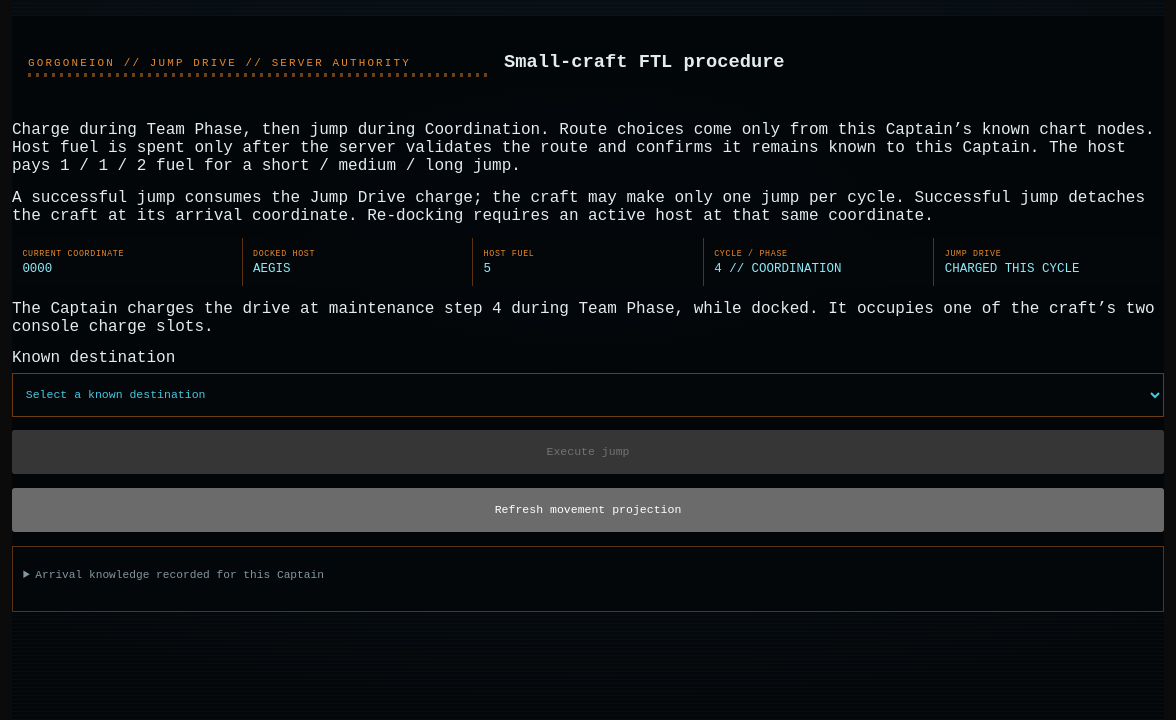
Test: Small Ship Jump Drive workspace › submits the current movement, docking, and charge revisions with a server-resolved destination
Select "5143 // short // 1 host fuel" in the dropdown labelled "Known destination" at (588, 395), box x1=12 y1=373 x2=1164 y2=417
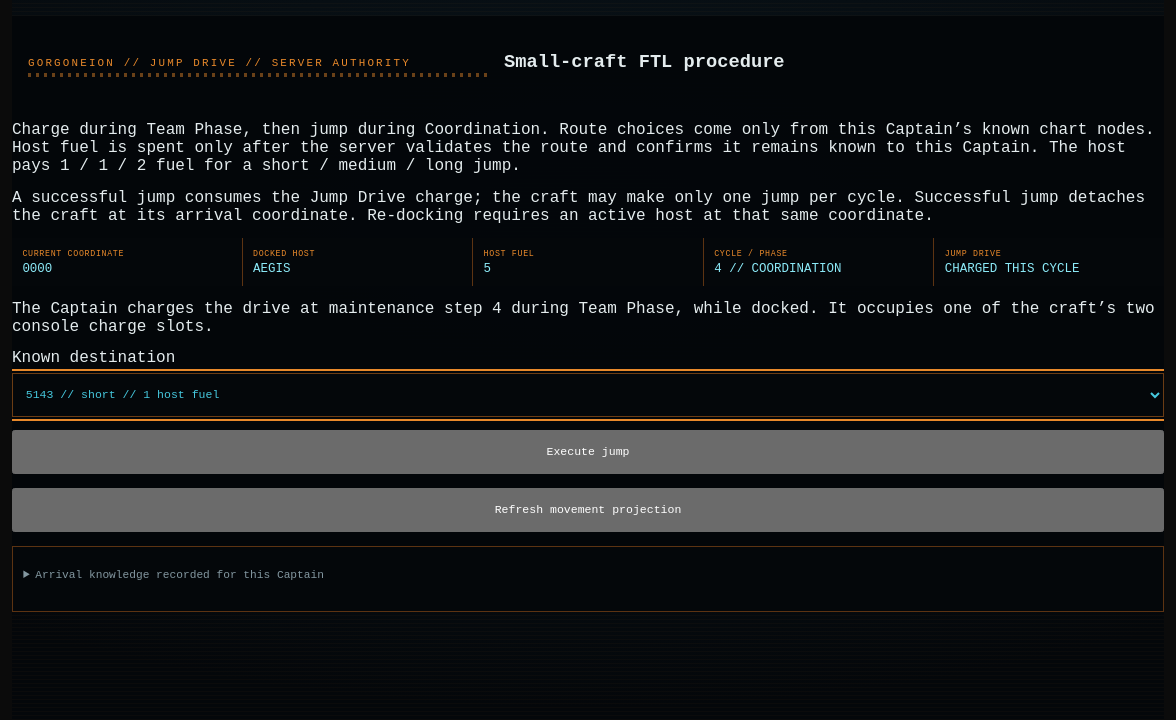
Click the button "Execute jump" at (588, 452), box x1=12 y1=430 x2=1164 y2=474
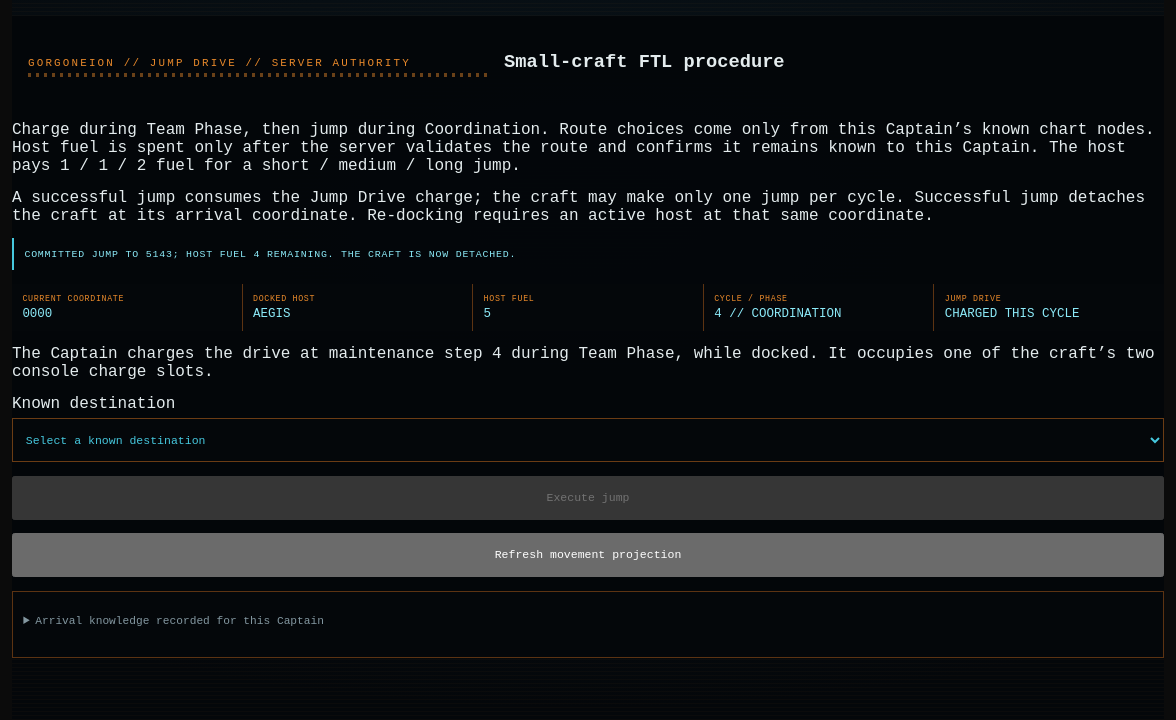
Result: the text "Committed jump to 5143; host fuel 4 remaining. The craft is now detached." is shown at x1=12 y1=238 x2=1164 y2=270
